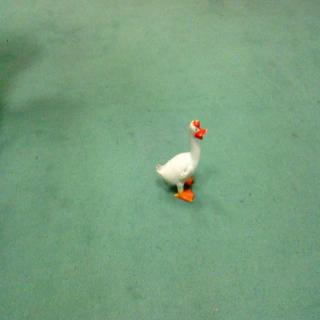duck: (156, 110, 209, 210)
